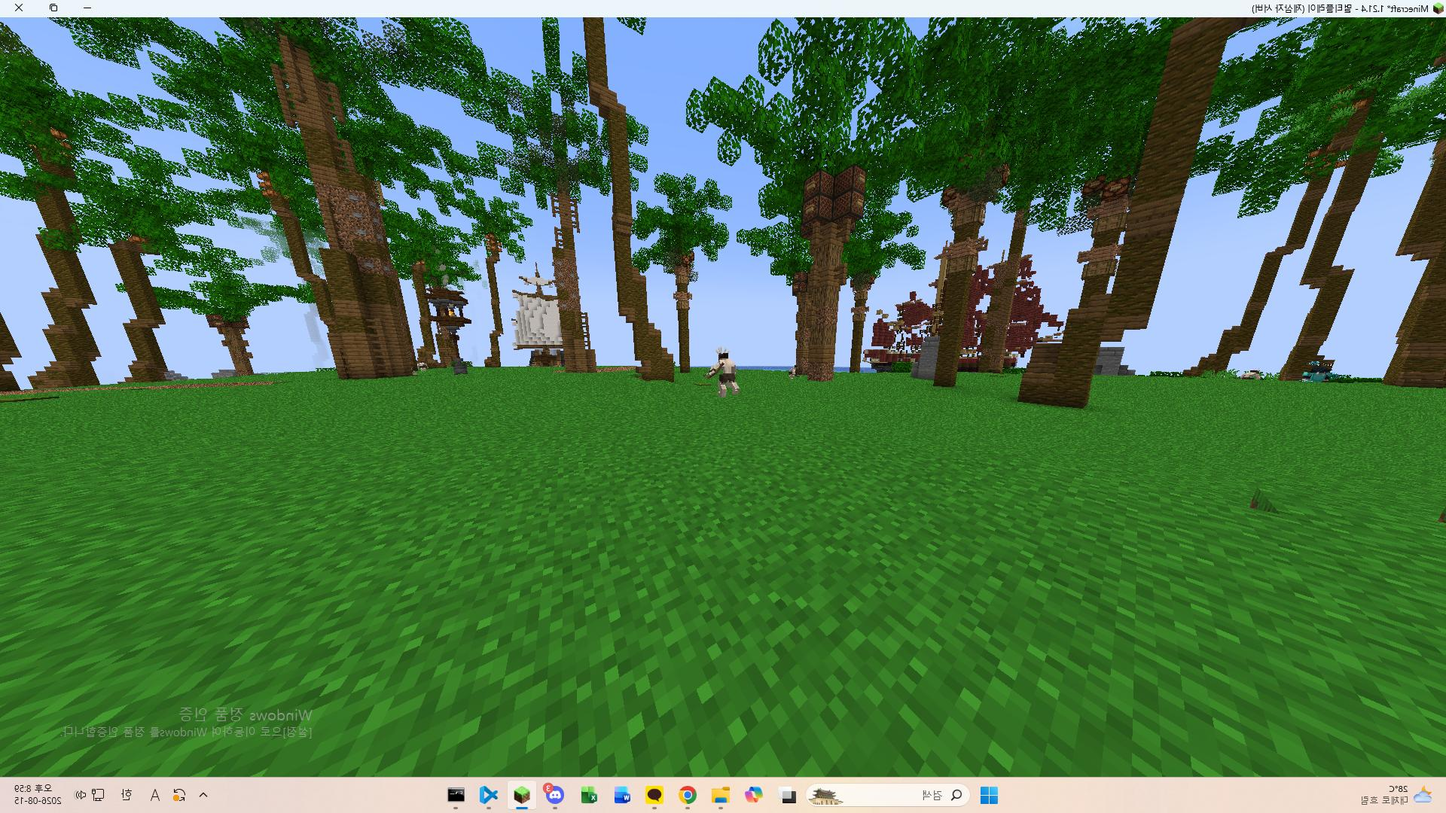bow_indian: (695, 341, 752, 406)
